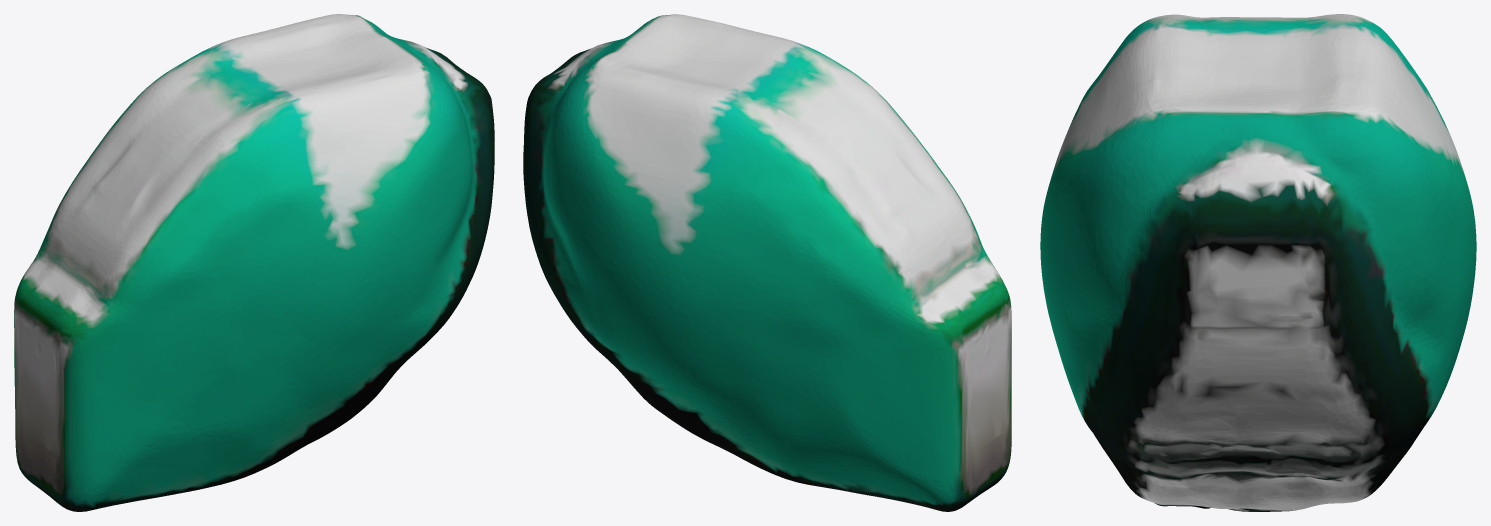
File: emerald_flawless.glb
The picture shows the model from 3 angles, left to right: view 1: azimuth 30°, elevation 25°; view 2: azimuth 150°, elevation 25°; view 3: azimuth 270°, elevation 25°; orthographic projection. The views are drawn at different scales.
Visible parts, largest first — view 1: geometry_0; view 2: geometry_0; view 3: geometry_0.
Part boxes in pixels (x1,y1,x2,y2): geometry_0: (14,14,494,511); geometry_0: (523,14,1011,511); geometry_0: (1040,14,1476,511).
Size of the model in its own units: 0.5938 by 0.4931 by 0.386.
